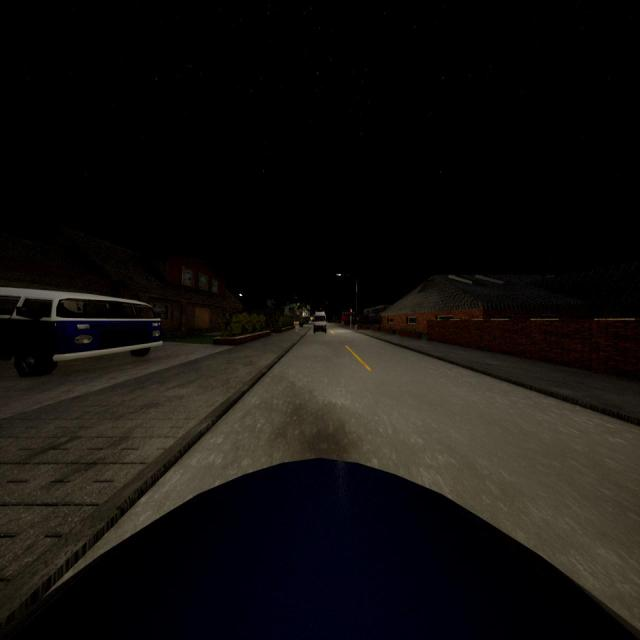Vehicle: (0, 456, 640, 640), (0, 288, 162, 376), (313, 311, 327, 334)
traffic_light: (350, 309, 353, 316)
